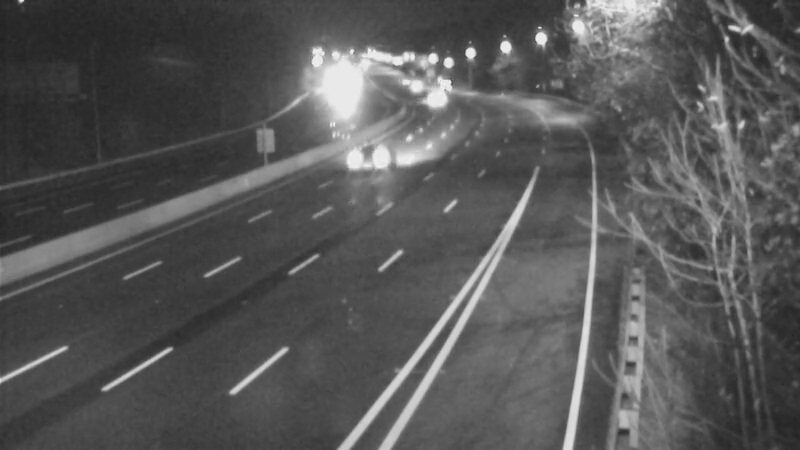vehicle: (330, 124, 410, 204), (420, 62, 470, 112), (391, 61, 441, 111), (409, 72, 459, 122), (315, 68, 365, 118)
